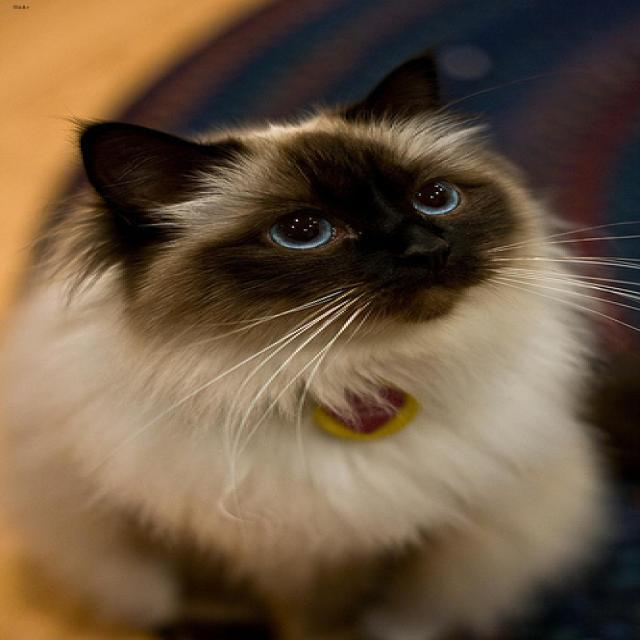Birman: (68, 48, 556, 385)
